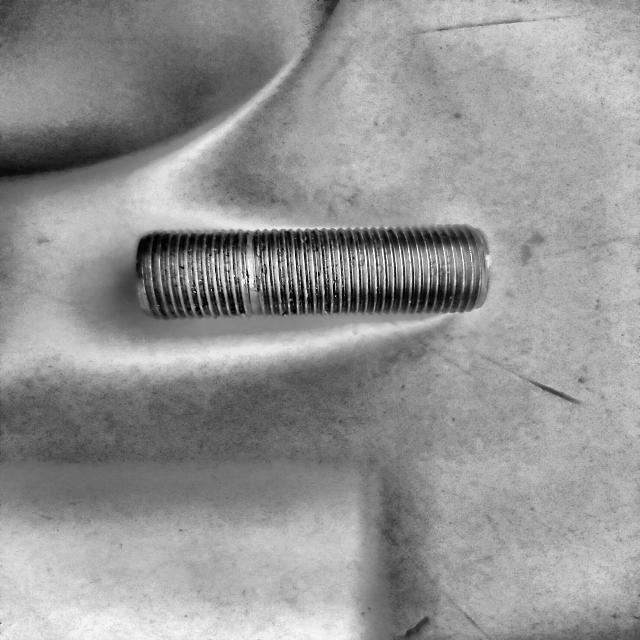Broken: (135, 223, 492, 322)
